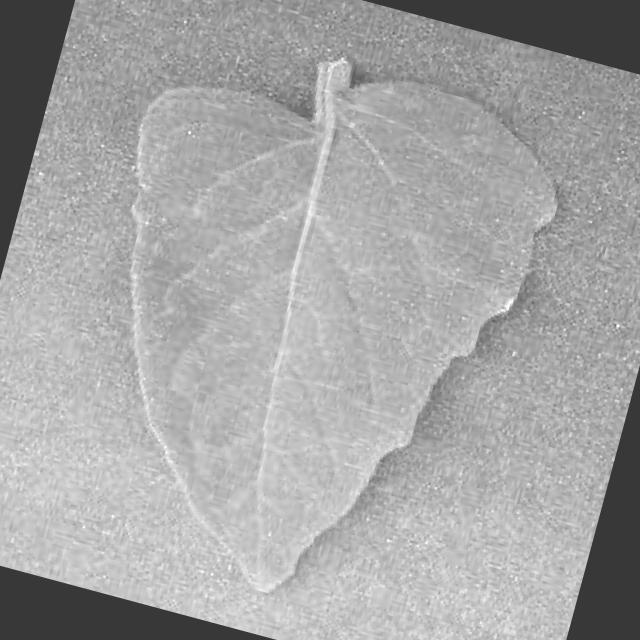healthy: (129, 60, 564, 603)
